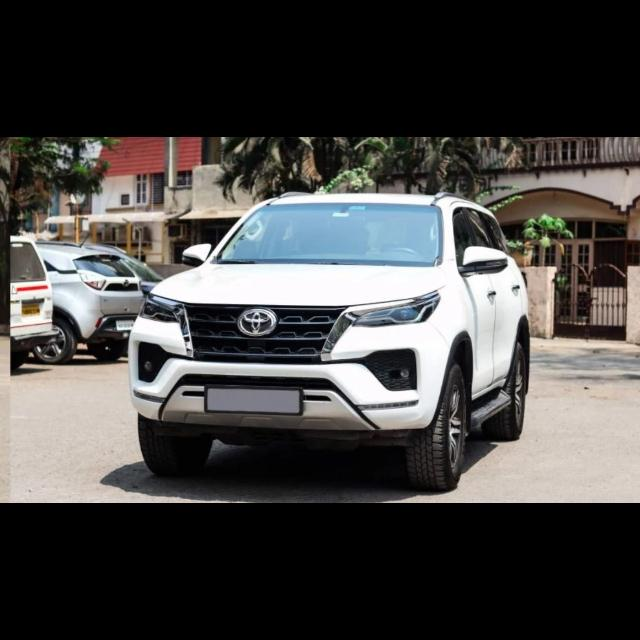vehicles: (128, 192, 524, 488), (12, 237, 160, 367)
